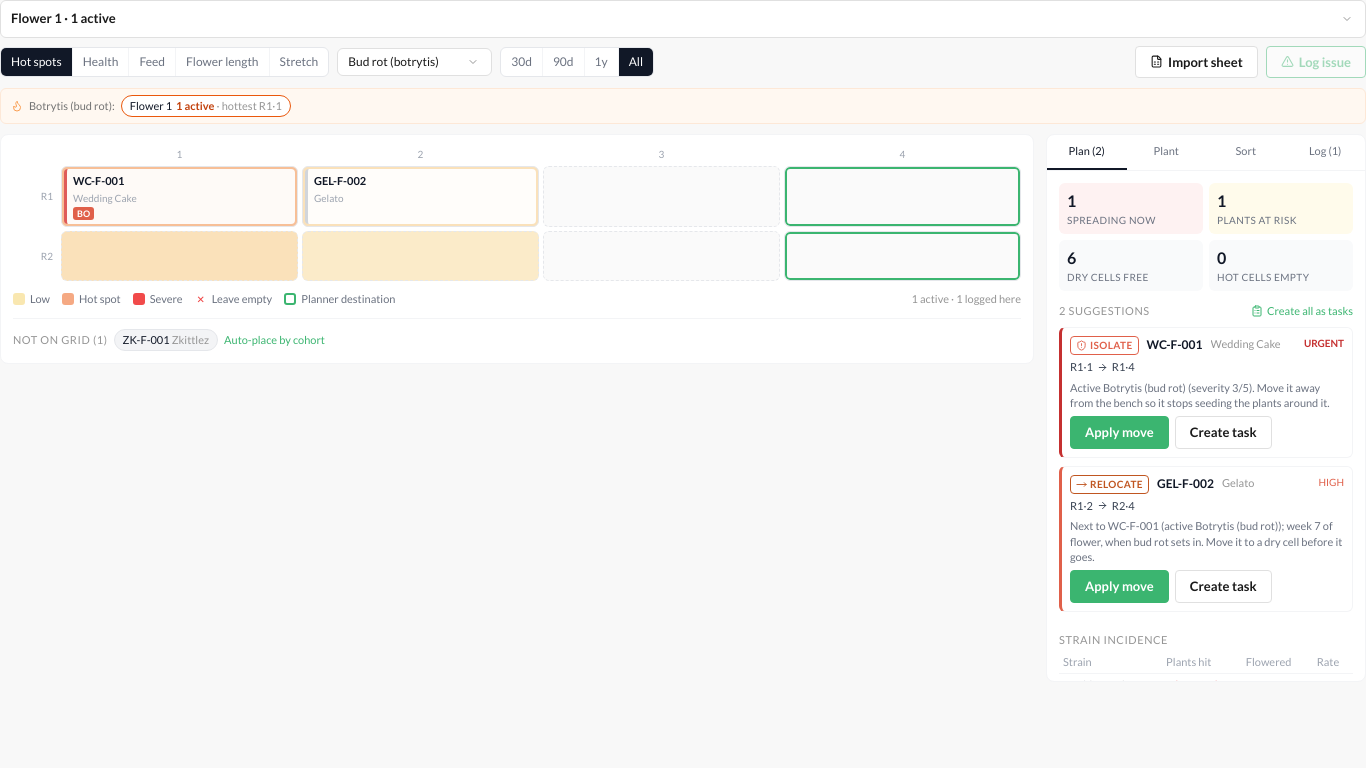
Test case: RoomLayoutView › opens the log-issue modal for a selected plant with bud rot preselected
Note: The grid chip is the button whose class marks it as a plant on the map.
Click the button with class "room-map-plant" showing "GEL-F-002 Gelato": (420, 197) 305,169 -> 536,224
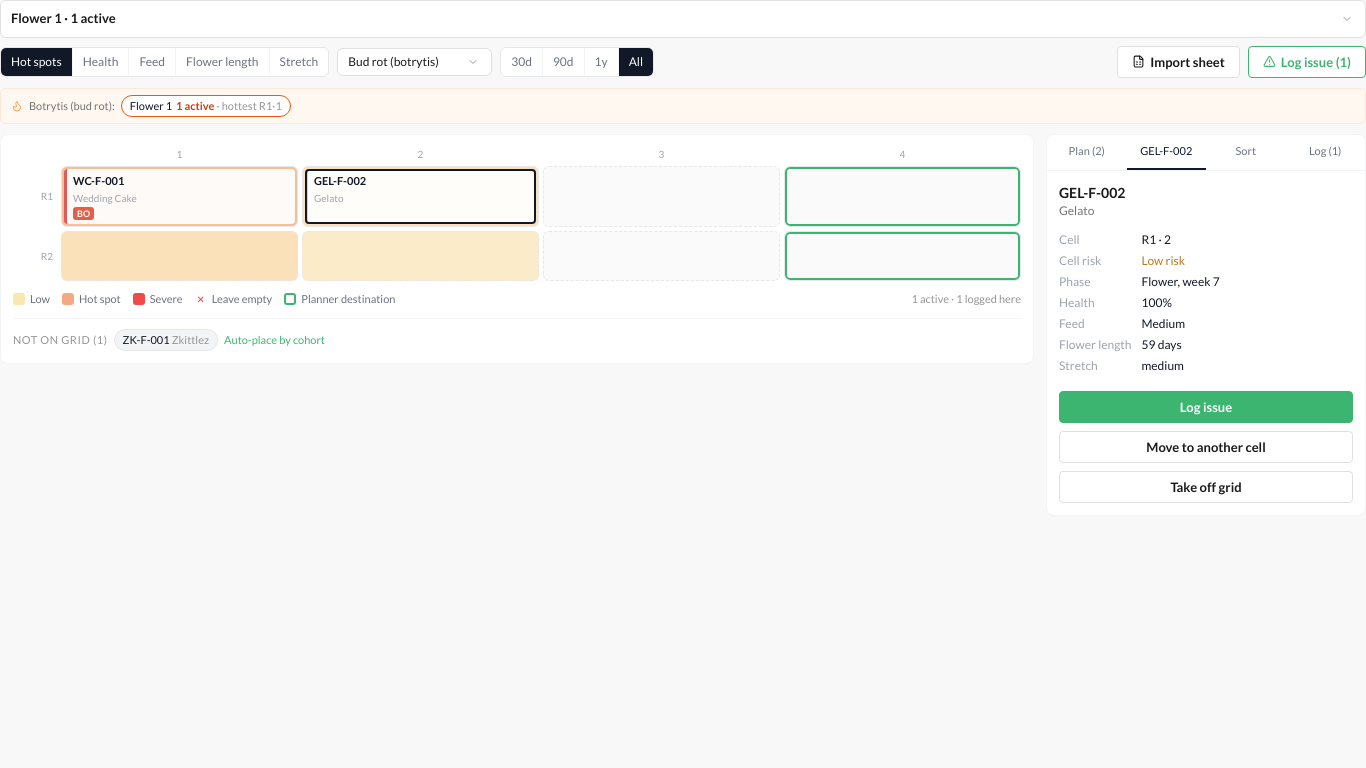
Click the button "Log issue (1)": (1307, 62) 1248,46 -> 1365,78
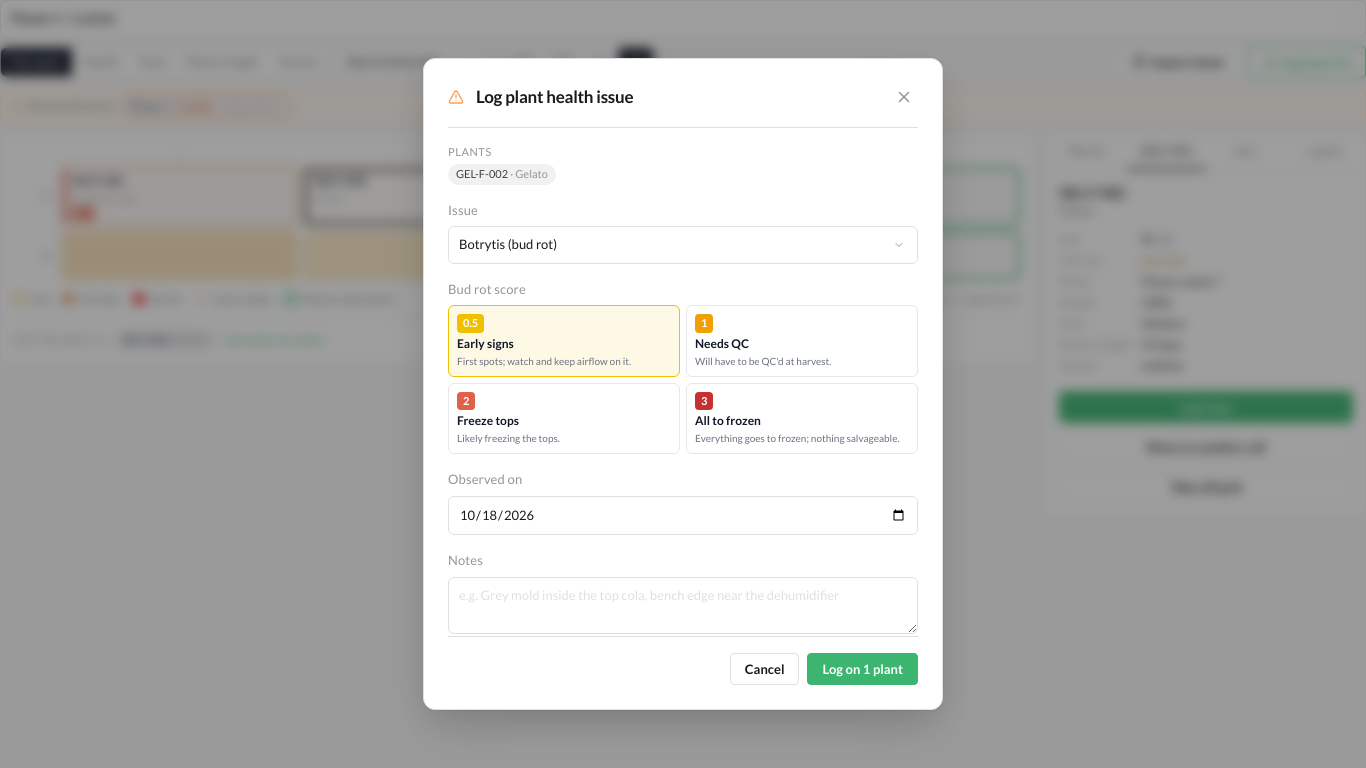
Expected: the heading "Log plant health issue" is shown, 476,86 -> 633,107
Expected: the dropdown showing "Botrytis (bud rot)" shows "Botrytis (bud rot)", 448,226 -> 918,264
